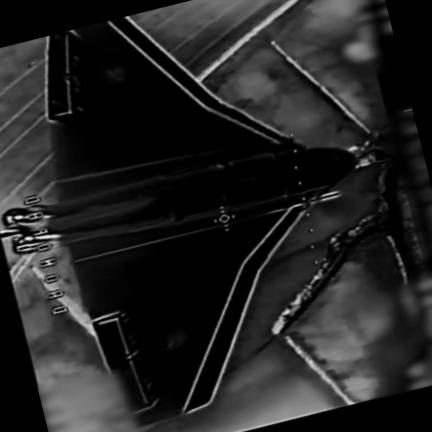Shahed: (29, 17, 358, 425)
